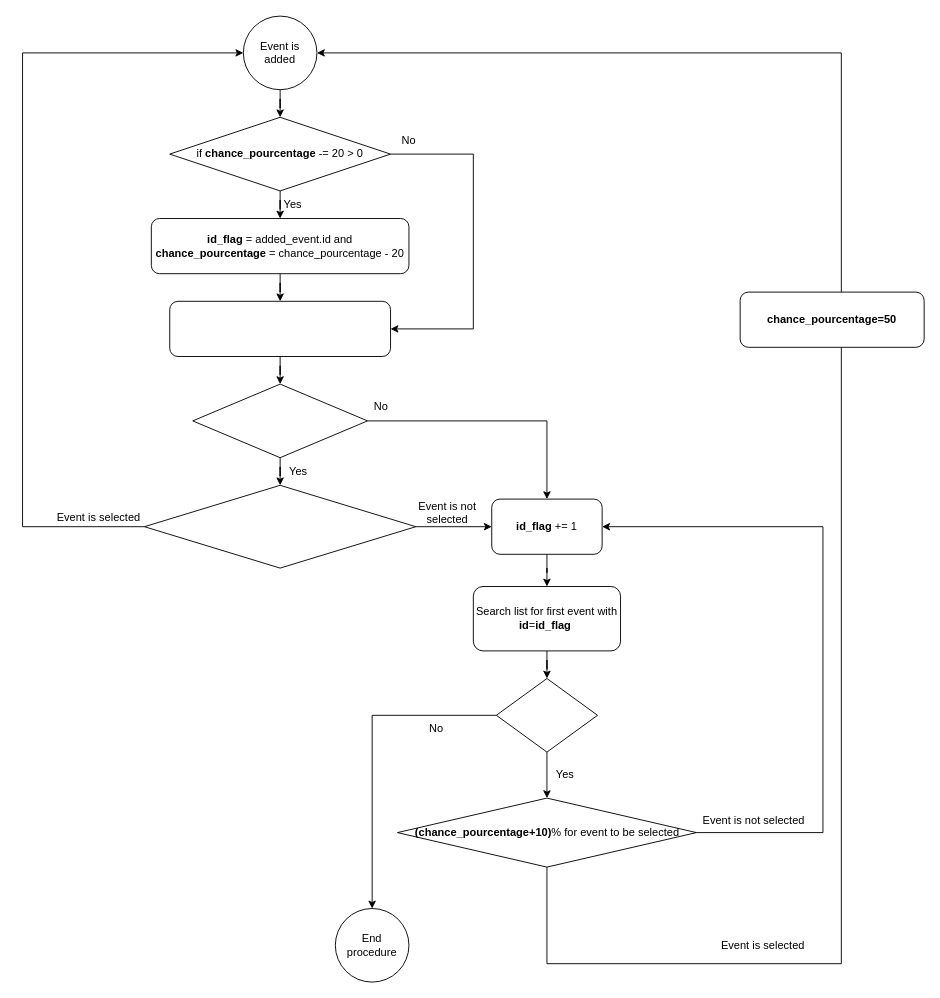
This 940x998 diagram has some shape labels left out. Here are the shapes that lost their labels. From the top down, the centre of each, then its label:
At pixel 280 328: "Search list for first event with id = id_flag and name != added_event.name".
At pixel 280 420: "event is found".
At pixel 280 526: "chance_pourcentage % chance for event to be selected".
At pixel 546 715: "event found".
